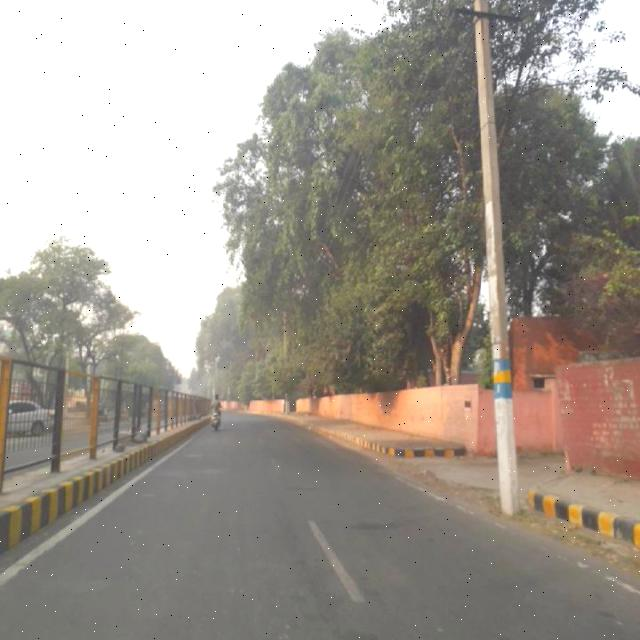D44: (532, 541, 640, 592), (422, 488, 527, 538)
